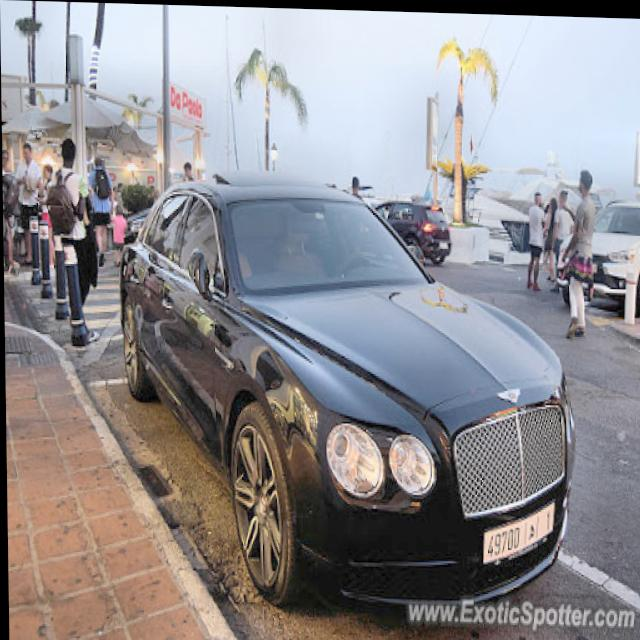License-Plate: (483, 500, 553, 560)
